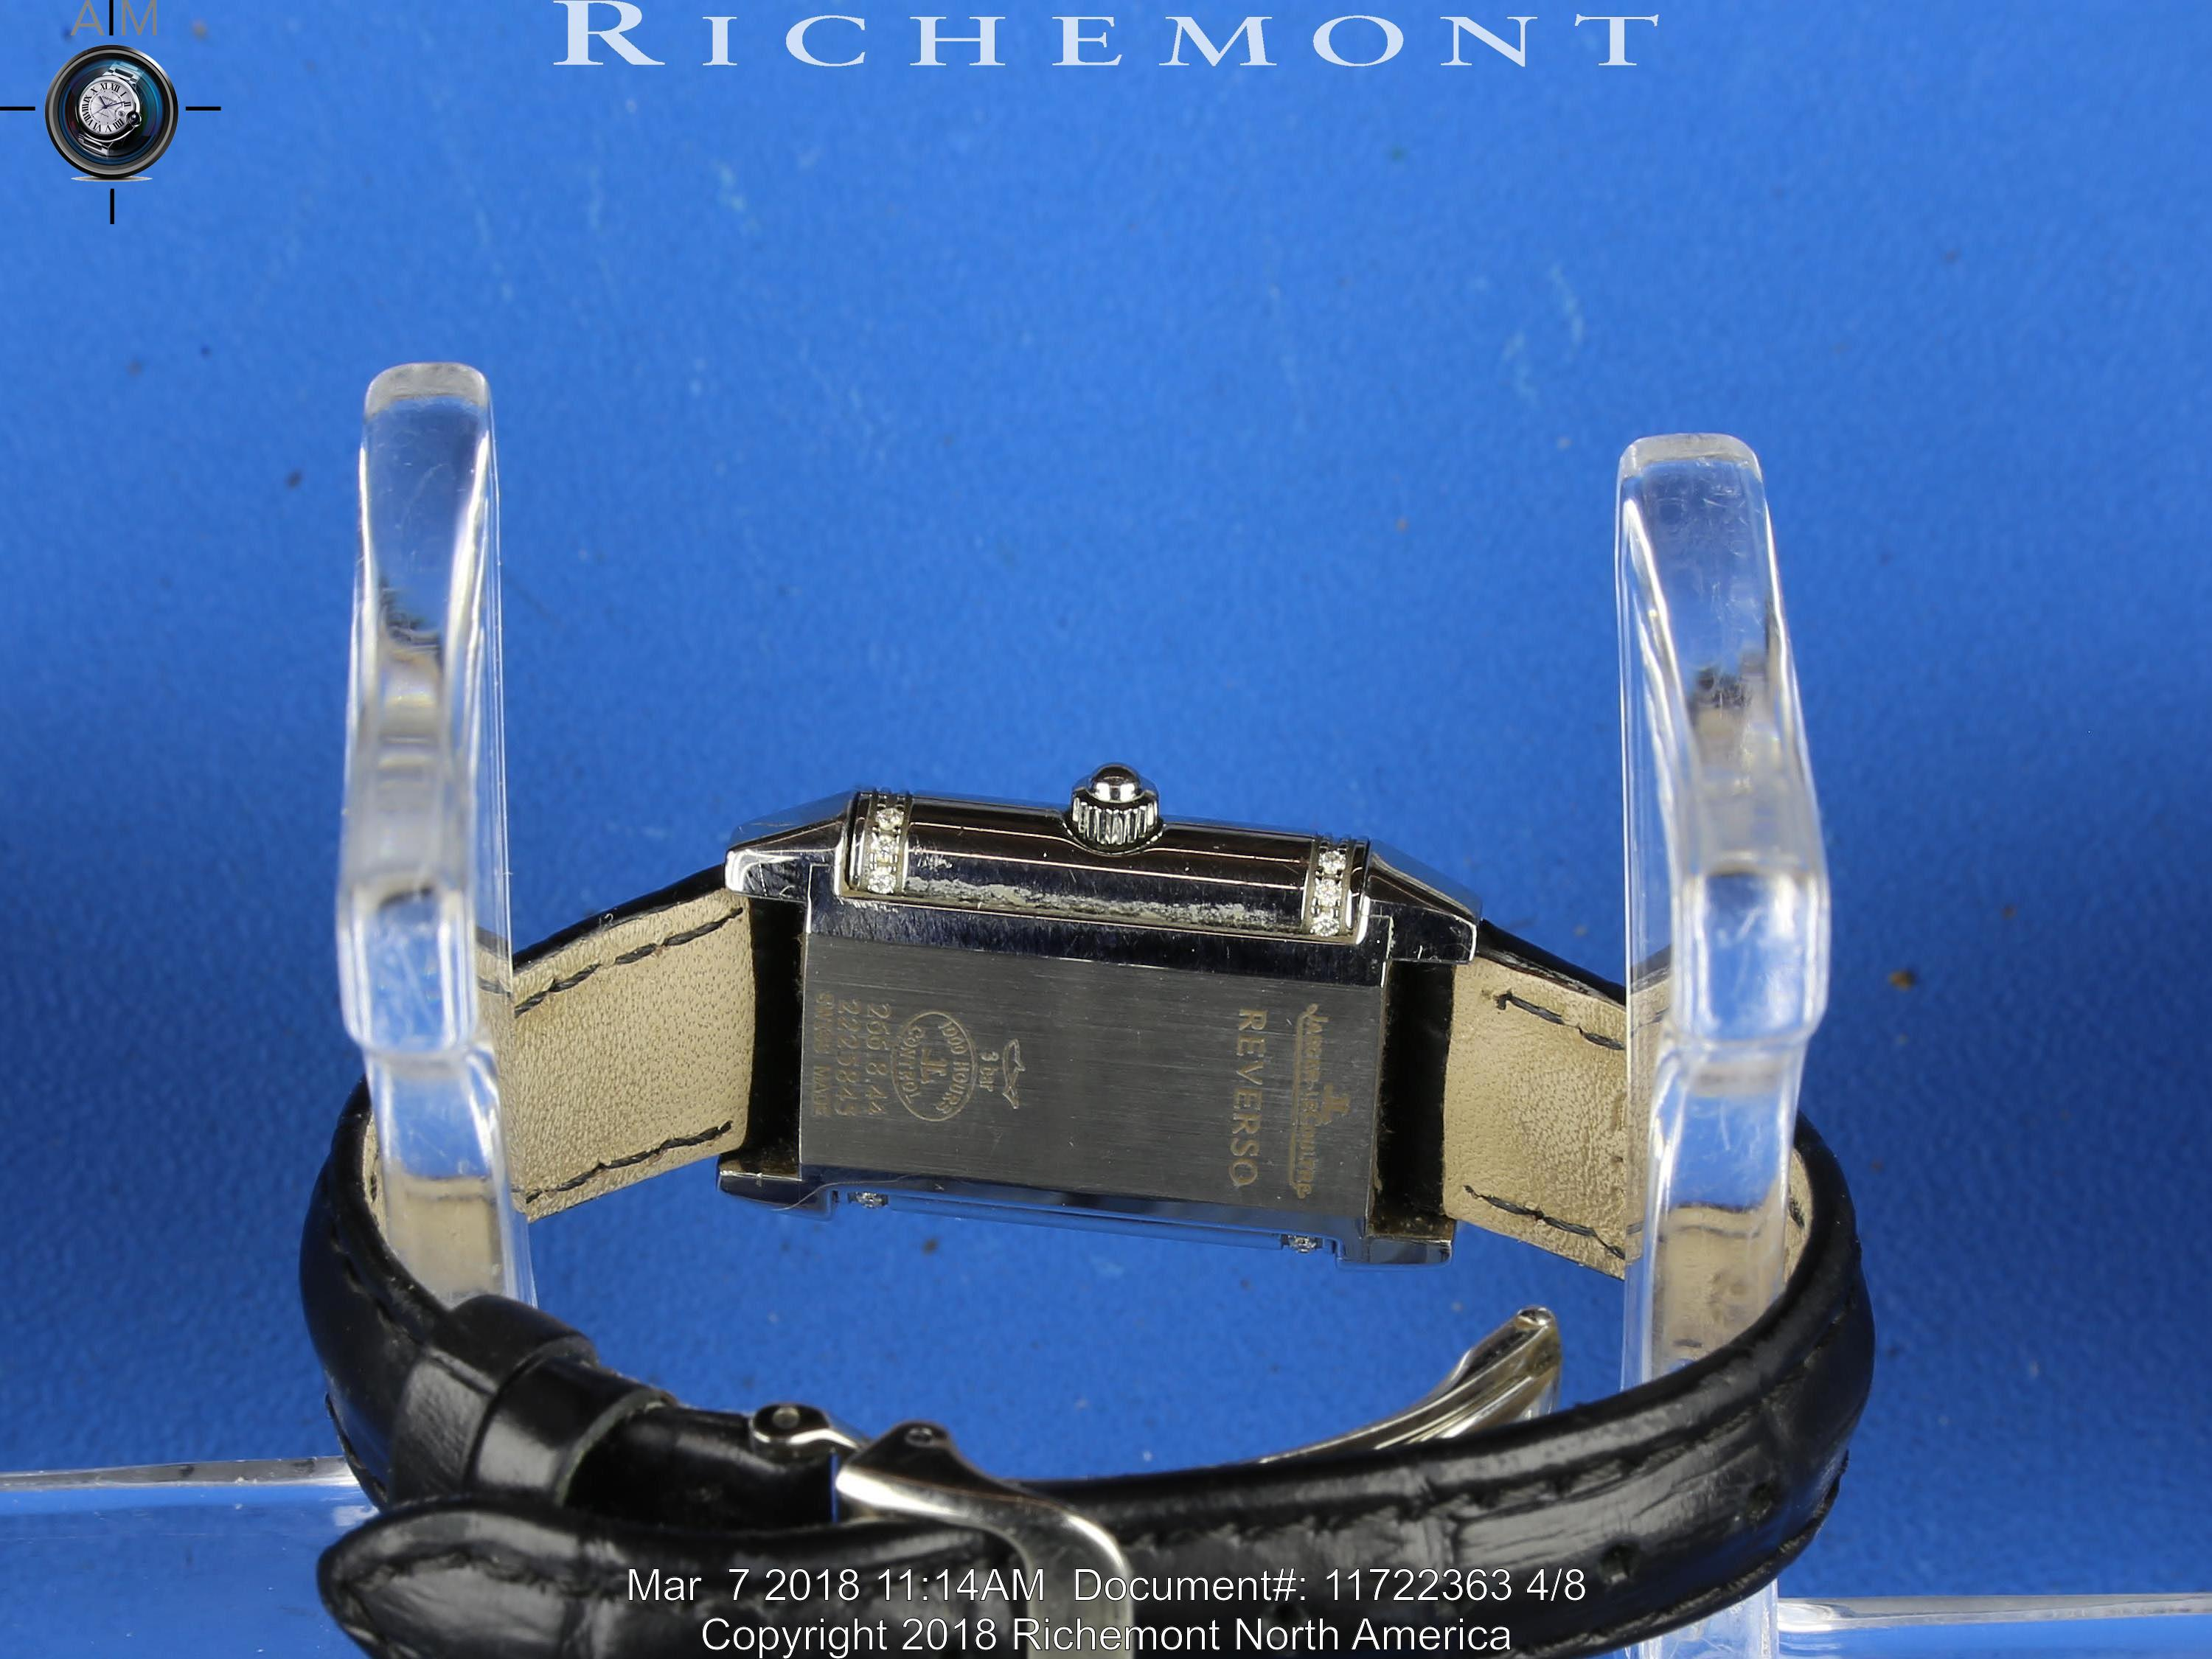Watch Back Case: (742, 765, 1463, 1263)
